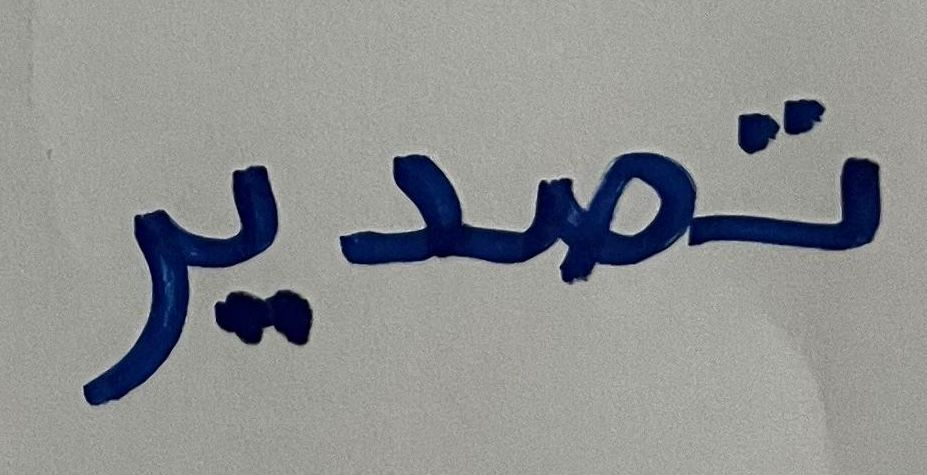dal: (335, 113, 483, 330)
reh: (42, 179, 194, 445)
sad: (491, 112, 702, 334)
teh: (706, 68, 887, 310)
yeh: (196, 130, 328, 394)
